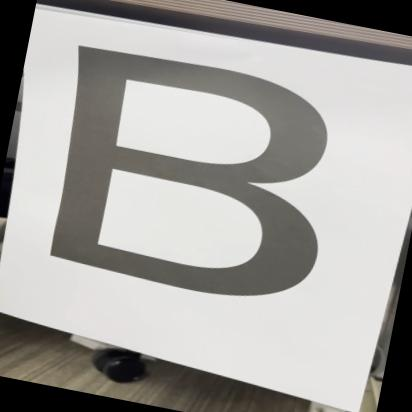seat: (17, 30, 379, 334)
